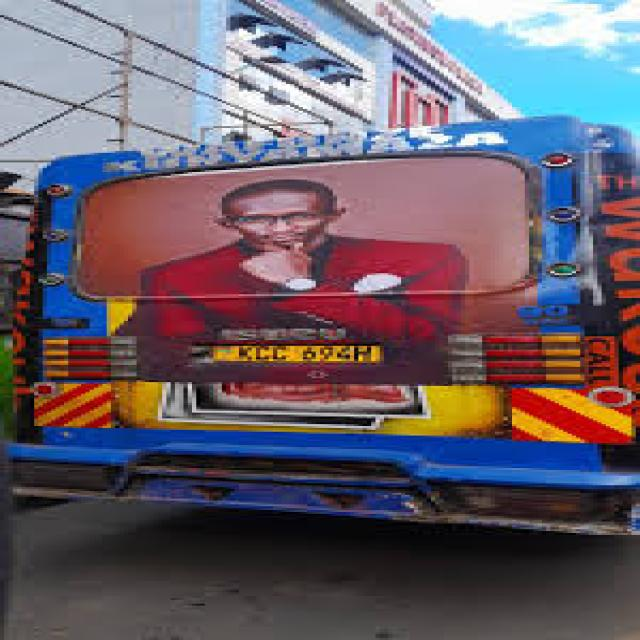bus: (4, 33, 640, 551)
